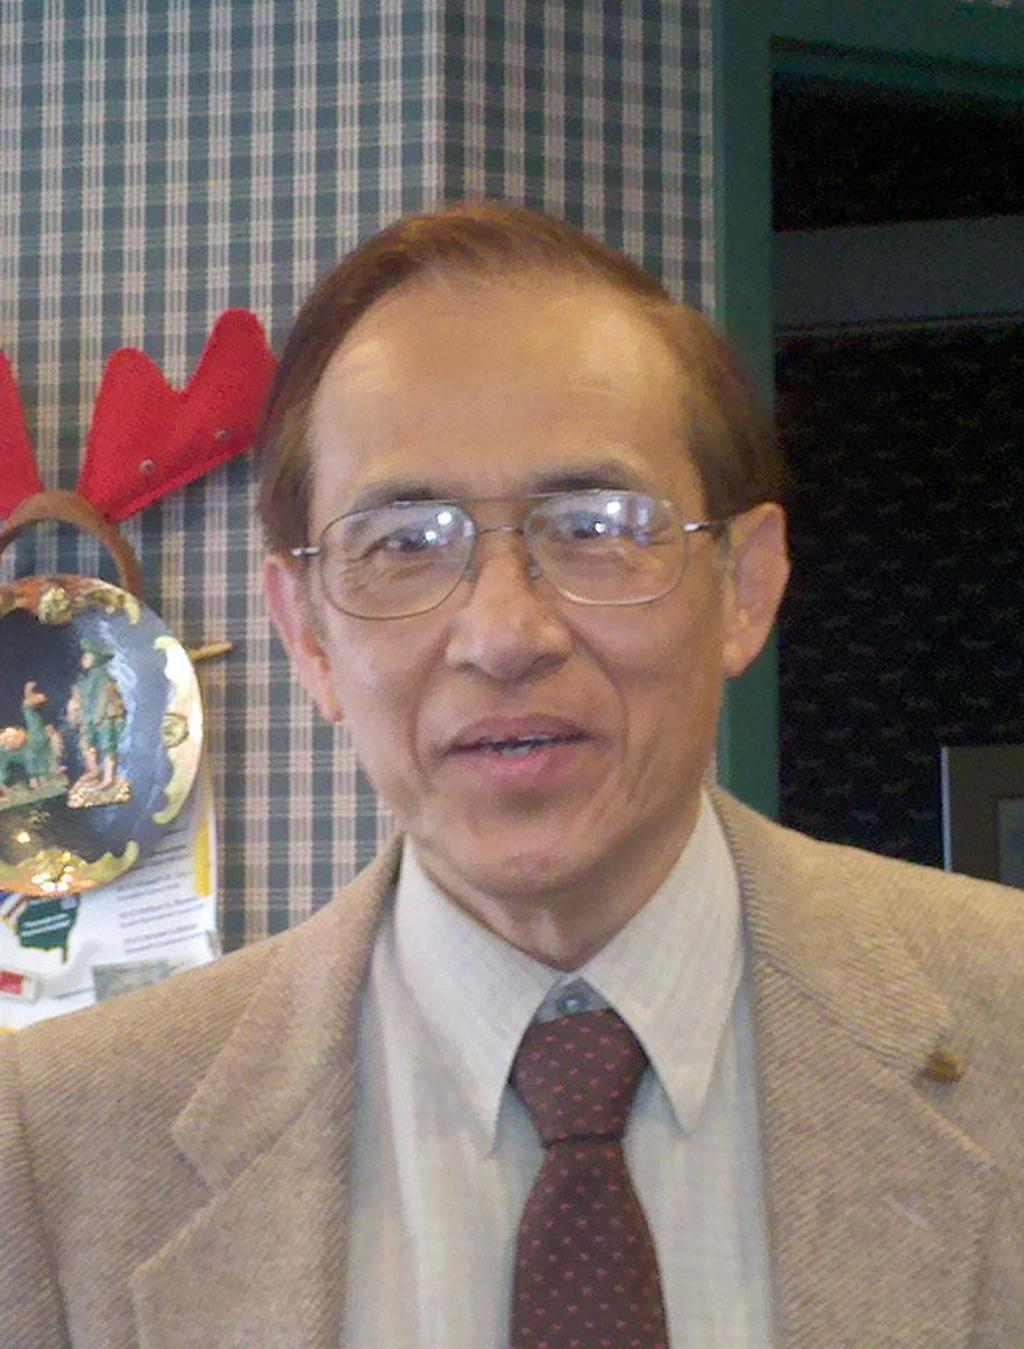face: (305, 300, 726, 882)
